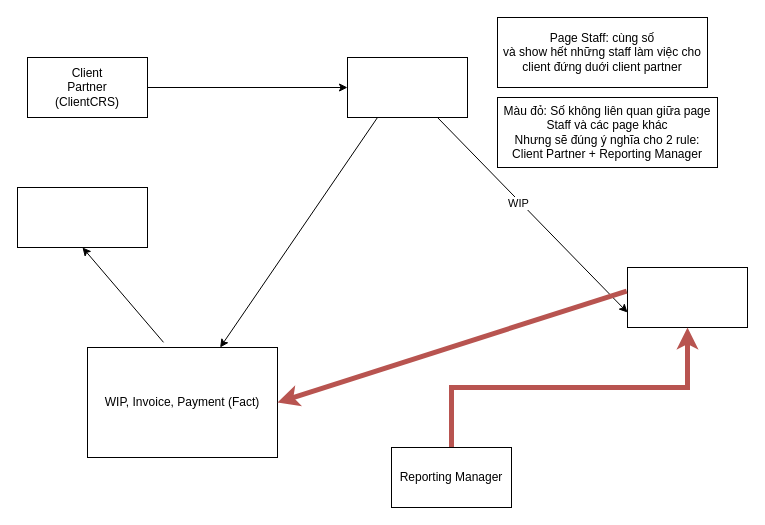
This 765x525 diagram has some shape labels left out. The shapes that lost their labels are listed below. From the top down, each one's centre as x and y in pixels, then its label:
the point at 407,87: Client
the point at 82,217: Project, ServiceCode, WorkStep
the point at 687,297: Staff
